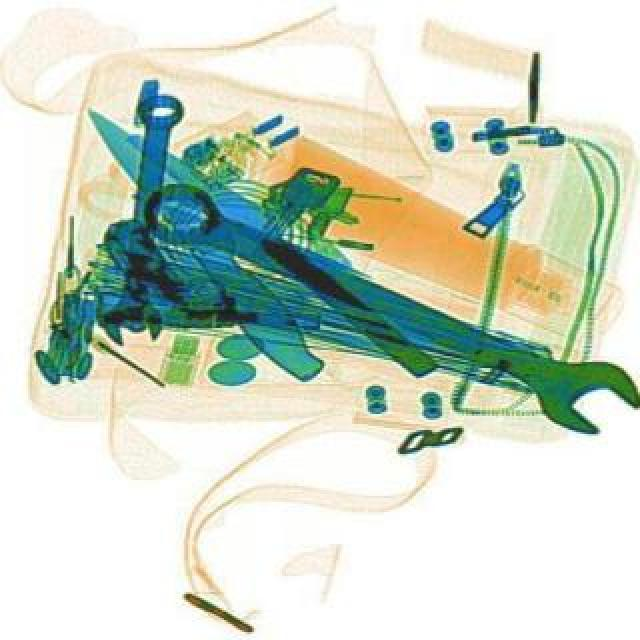gun: (96, 216, 316, 336)
knife: (118, 116, 444, 380), (72, 90, 332, 390)
scissors: (132, 168, 638, 440), (94, 92, 194, 348)
